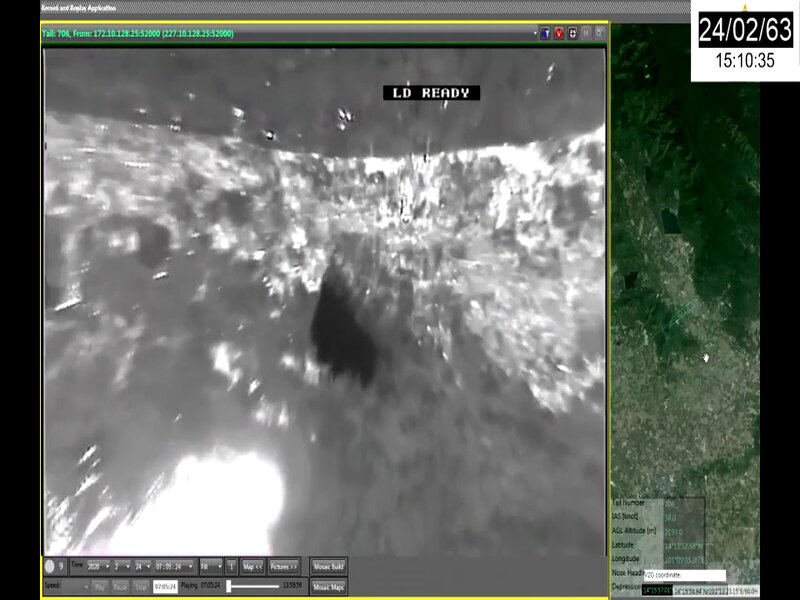Fire: (45, 445, 286, 556)
